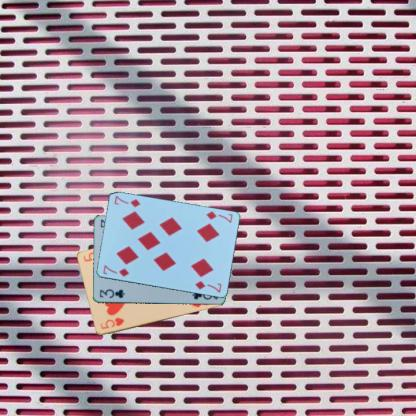3c: (97, 287, 125, 299)
5h: (98, 315, 125, 330)
7d: (100, 263, 130, 278), (204, 209, 233, 224)
